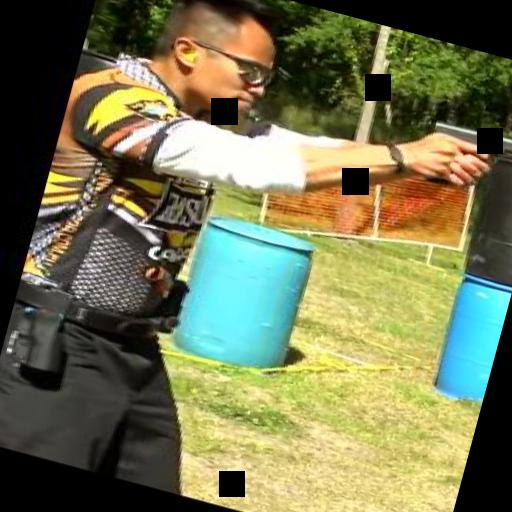Handgun: (410, 113, 512, 201)
